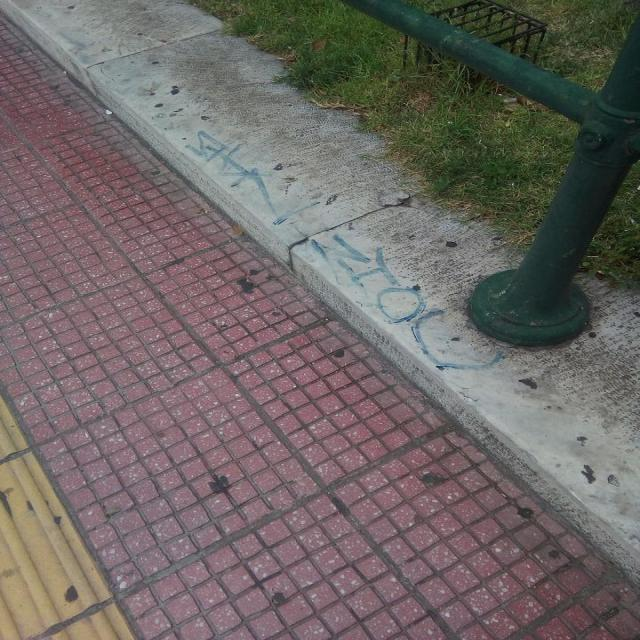nonspitting: (184, 128, 506, 373)
